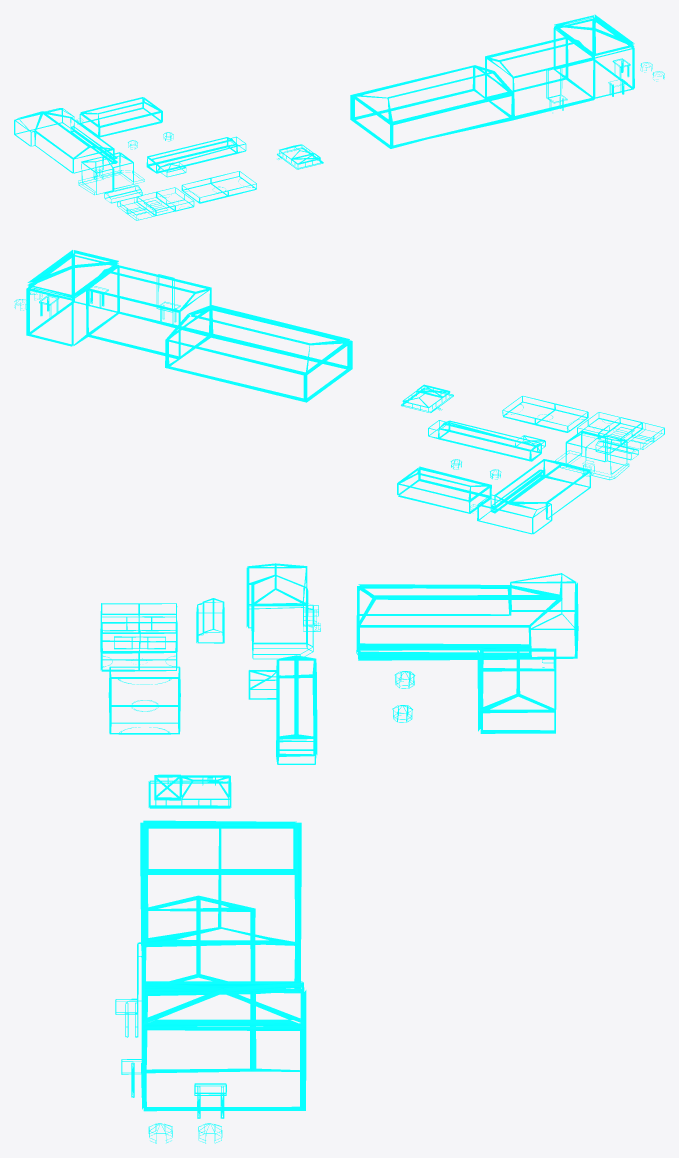
3 renders of one model, top to bottom at view 1: azimuth 30°, elevation 25°; view 2: azimuth 150°, elevation 25°; view 3: azimuth 270°, elevation 25°, orthographic. The views are drawn at different scales.
Parts seen in each view (by area): view 1: SketchUp.025; view 2: SketchUp.025; view 3: SketchUp.025.
Boxes of the visible parts, bbox=[...] form: SketchUp.025: bbox=[14, 14, 664, 220]; SketchUp.025: bbox=[14, 250, 664, 534]; SketchUp.025: bbox=[100, 563, 578, 1143].
Bounding box in the file's own units: 50.26 × 4.66 × 18.94.
